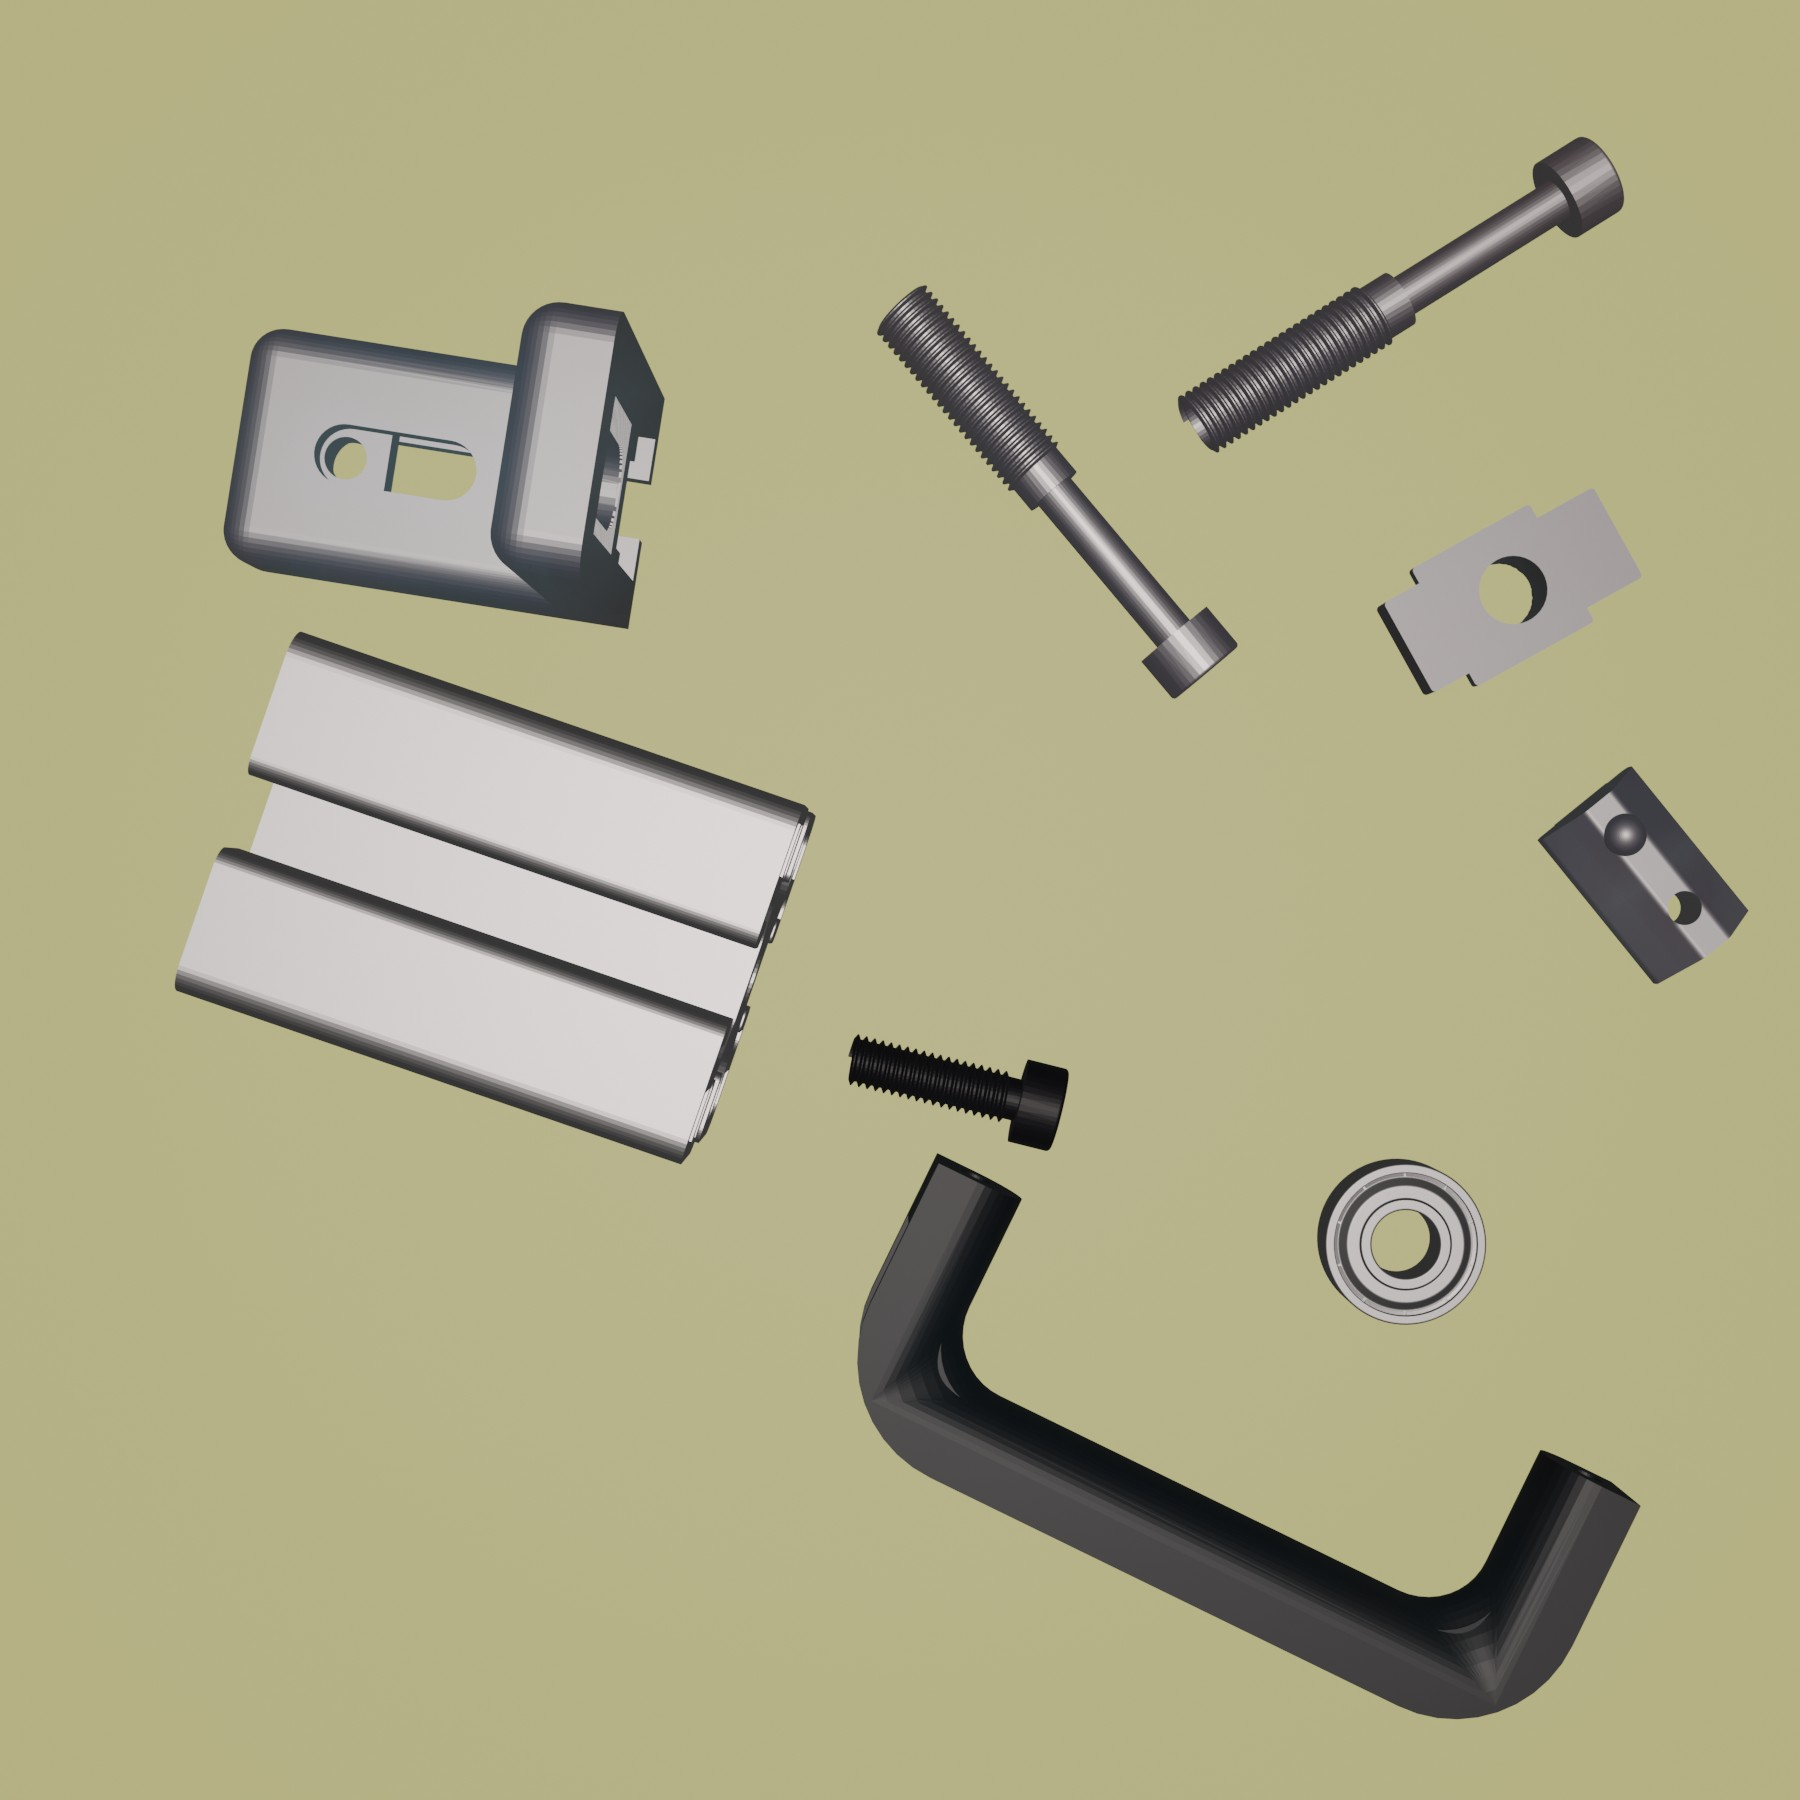Aluminium Extension: (170, 628, 814, 1169)
Ball Bearing: (1312, 1155, 1488, 1329)
Multiwinkel: (219, 302, 668, 631)
Pull Handle: (854, 1151, 1638, 1723)
Shoulder Socket Head Cap Screw: (874, 280, 1241, 702), (1174, 132, 1629, 452)
Socket Head Cap Screw: (842, 1029, 1073, 1154)
T Nut Square: (1375, 485, 1648, 699)
T Spring Nut: (1533, 762, 1751, 987)
